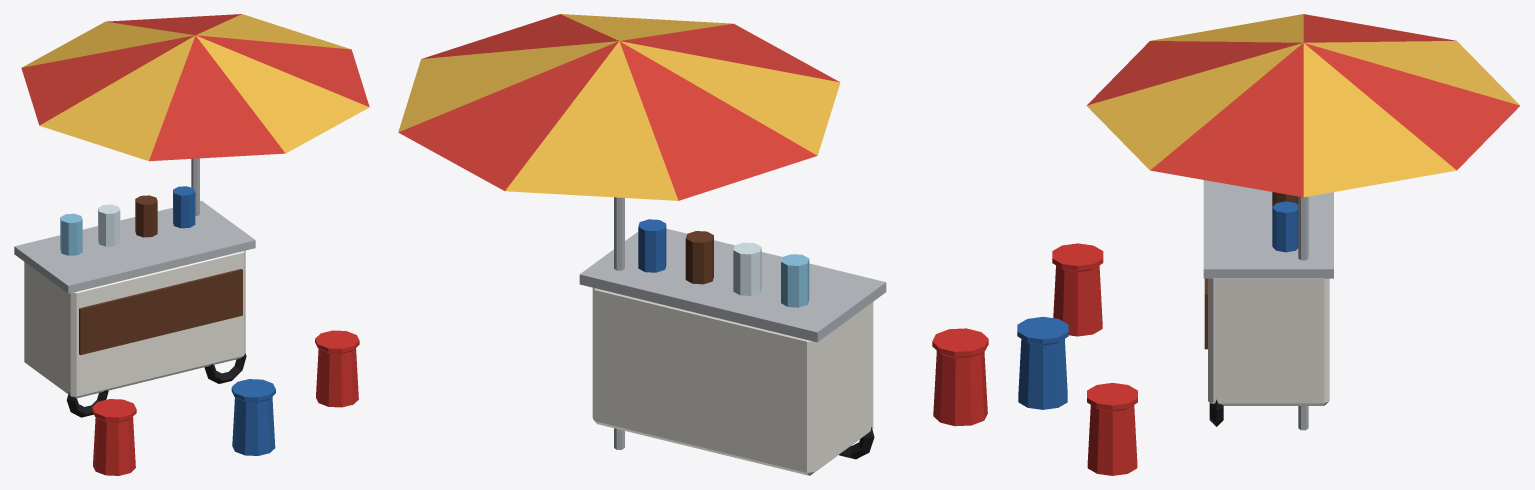
File: BLD_CoffeeStall.fbx
The picture shows the model from 3 angles, left to right: view 1: azimuth 30°, elevation 25°; view 2: azimuth 150°, elevation 25°; view 3: azimuth 270°, elevation 25°; orthographic projection. The views are drawn at different scales.
Parts seen in each view (by area): view 1: BLD_CoffeeStall; view 2: BLD_CoffeeStall; view 3: BLD_CoffeeStall.
Boxes of the visible parts, bbox=[...] form: BLD_CoffeeStall: bbox=[14, 14, 369, 475]; BLD_CoffeeStall: bbox=[398, 14, 988, 475]; BLD_CoffeeStall: bbox=[1017, 14, 1520, 475].
Bounding box in the file's own units: 2.81 × 2.45 × 2.9.
